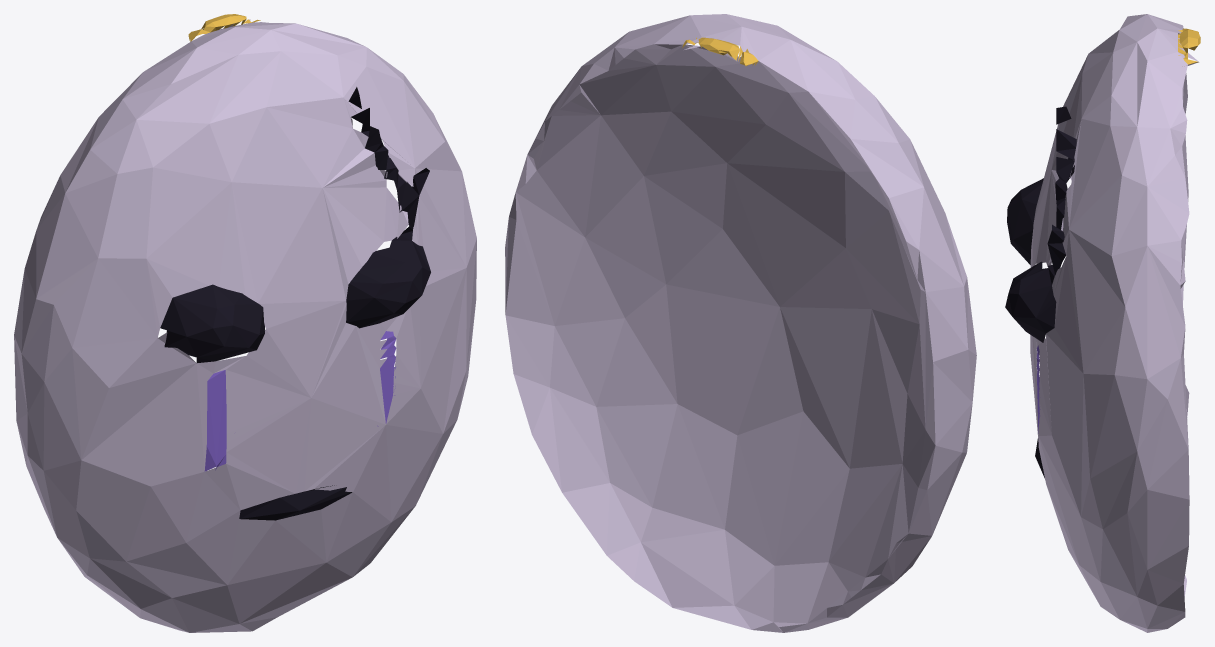
File: spirit_mask.glb
The picture shows the model from 3 angles, left to right: view 1: azimuth 30°, elevation 25°; view 2: azimuth 150°, elevation 25°; view 3: azimuth 270°, elevation 25°; orthographic projection. The views are drawn at different scales.
Parts seen in each view (by area): view 1: spirit_mask; view 2: spirit_mask; view 3: spirit_mask.
Part boxes in pixels (bbox=[...]): spirit_mask: bbox=[14, 14, 476, 632]; spirit_mask: bbox=[505, 14, 976, 632]; spirit_mask: bbox=[1005, 14, 1200, 632].
Bounding box in the file's own units: 0.5963 × 0.7579 × 0.2308.
